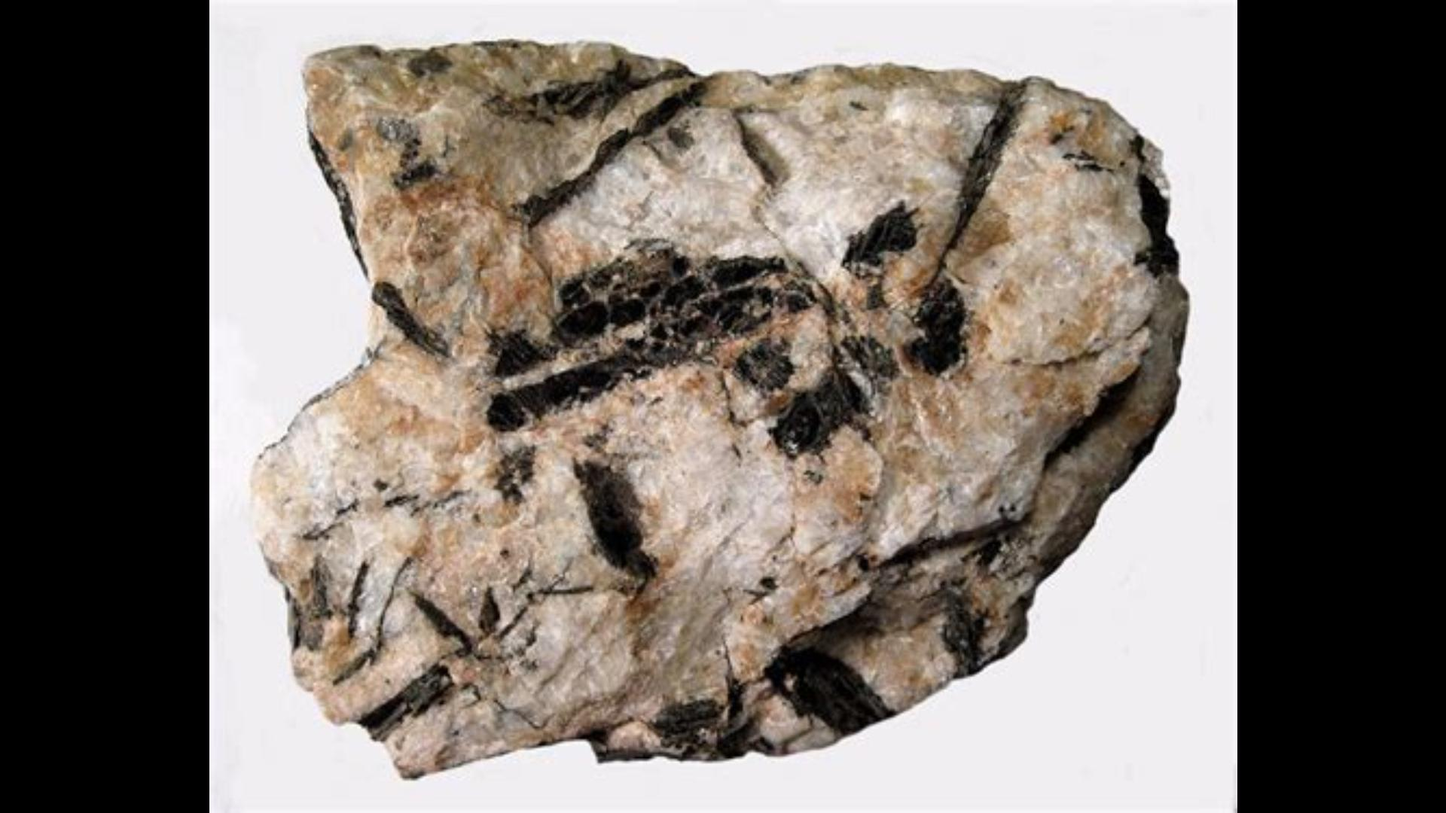rock: (256, 46, 1185, 776)
